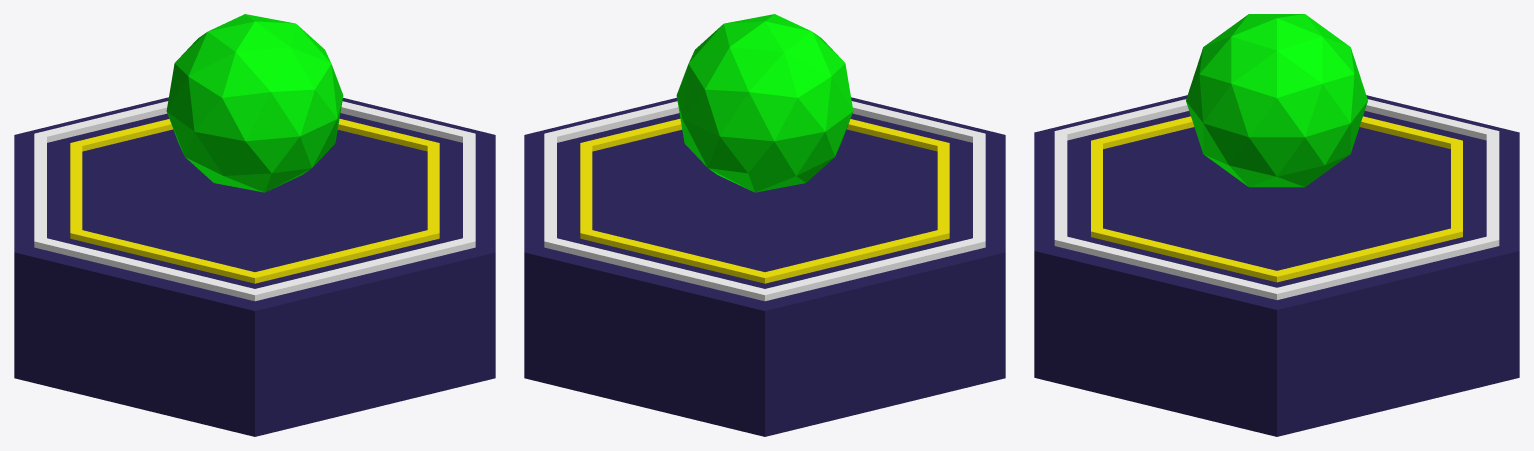
File: hex_goal.glb
3 renders of one model, left to right at view 1: azimuth 30°, elevation 25°; view 2: azimuth 150°, elevation 25°; view 3: azimuth 270°, elevation 25°, orthographic.
Parts seen in each view (by area): view 1: tile, ball, outerring, innerring; view 2: tile, ball, outerring, innerring; view 3: tile, ball, outerring, innerring.
Boxes of the visible parts, bbox=[...] form: tile: bbox=[14, 97, 495, 436]; ball: bbox=[166, 14, 343, 192]; outerring: bbox=[34, 101, 475, 301]; innerring: bbox=[70, 119, 439, 283]; tile: bbox=[524, 97, 1005, 436]; ball: bbox=[676, 14, 853, 192]; outerring: bbox=[544, 101, 985, 301]; innerring: bbox=[580, 119, 949, 283]; tile: bbox=[1034, 95, 1519, 436]; ball: bbox=[1186, 14, 1367, 187]; outerring: bbox=[1054, 99, 1499, 299]; innerring: bbox=[1091, 116, 1462, 282].
Size of the model in its own units: 2 by 1.18 by 1.73.
